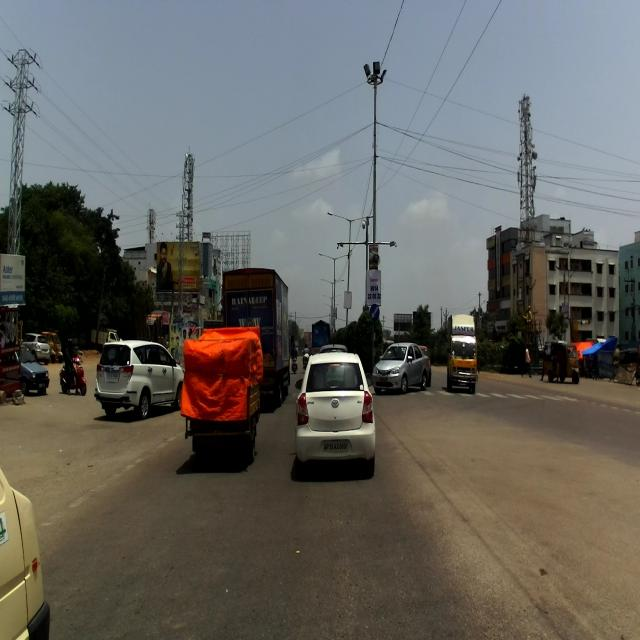autorickshaw: (180, 326, 263, 464)
car: (295, 352, 375, 476), (94, 339, 184, 421), (372, 337, 433, 395)
